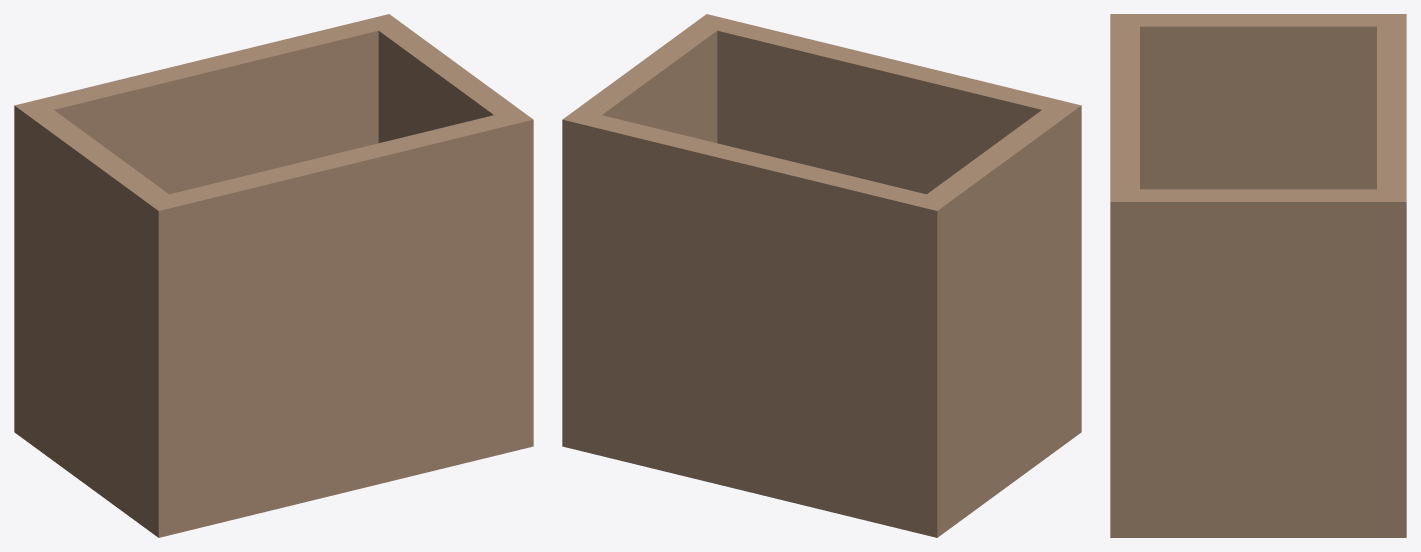
File: planter_box_v9.glb
3 renders of one model, left to right at view 1: azimuth 30°, elevation 25°; view 2: azimuth 150°, elevation 25°; view 3: azimuth 270°, elevation 25°, orthographic. The views are drawn at different scales.
Visible parts, largest first — view 1: PlanterBox; view 2: PlanterBox; view 3: PlanterBox.
Boxes of the visible parts, x1,y1,x2,y2 form: PlanterBox: (14,14,533,537); PlanterBox: (562,14,1081,537); PlanterBox: (1110,14,1406,537).
Size of the model in its own units: 0.3 by 0.25 by 0.2.
